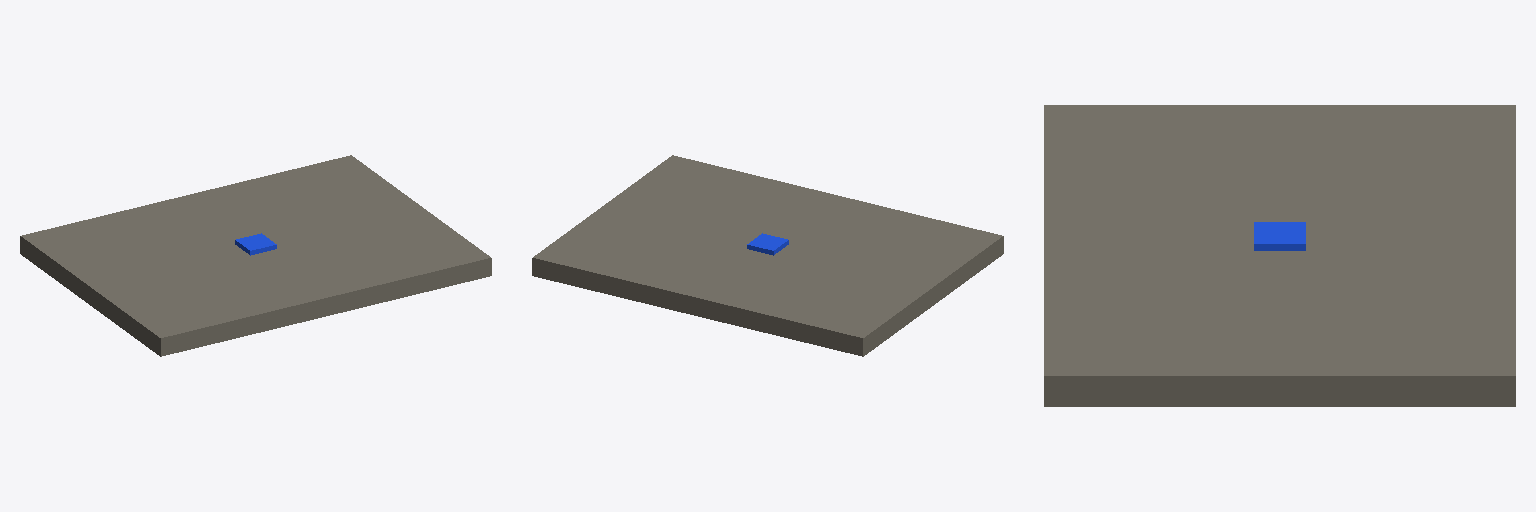
The robot description file, URDF, robot "parttoolgen_tabletop_proxy_v0":
<?xml version="1.0"?>
<robot name="parttoolgen_tabletop_proxy_v0">
  <link name="tabletop_proxy">
    <visual>
      <material name="wood">
        <color rgba="0.52 0.50 0.46 1.0"/>
      </material>
      <origin xyz="0 0 0"/>
      <geometry>
        <box size="0.75 0.55 0.04"/>
      </geometry>
    </visual>
    <collision>
      <origin xyz="0 0 0"/>
      <geometry>
        <box size="0.75 0.55 0.04"/>
      </geometry>
    </collision>

    <visual>
      <material name="target_patch">
        <color rgba="0.18 0.40 0.95 0.82"/>
      </material>
      <origin xyz="0.0 0.0 0.025"/>
      <geometry>
        <box size="0.06 0.06 0.01"/>
      </geometry>
    </visual>

    <inertial>
      <mass value="500"/>
      <friction value="1.0"/>
      <inertia ixx="1000.0" ixy="0.0" ixz="0.0" iyy="1000.0" iyz="0.0" izz="1000.0"/>
    </inertial>
  </link>
</robot>

--- What the picture shows (computed from the rendered views, not written in the file) ---
3 views of the same robot in one strip: view 1: azimuth 30°, elevation 25°; view 2: azimuth 150°, elevation 25°; view 3: azimuth 270°, elevation 25° (orthographic).
Robot: parttoolgen_tabletop_proxy_v0 — 1 links, 0 joints (none); root link tabletop_proxy; default pose: all joints at 0.
Links seen in each view (by area): view 1: tabletop_proxy; view 2: tabletop_proxy; view 3: tabletop_proxy.
Link boxes in pixels (x1,y1,x2,y2): tabletop_proxy: (20, 155, 491, 356); tabletop_proxy: (532, 155, 1003, 356); tabletop_proxy: (1044, 105, 1515, 406).
Bounding box of the posed robot: 0.75 × 0.55 × 0.05 m (x, y, z).
Geometry: primitives only (box / cylinder / sphere), no mesh files.
